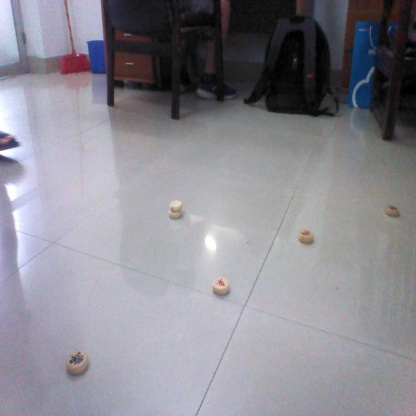chess: (61, 351, 93, 375), (382, 202, 405, 220), (213, 277, 234, 295), (164, 202, 186, 219), (296, 228, 318, 245)
